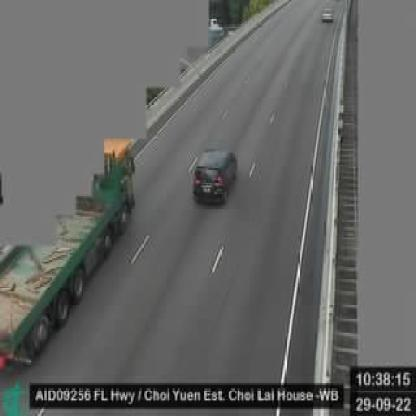Car: (191, 149, 239, 205)
Truck: (0, 139, 135, 371)
